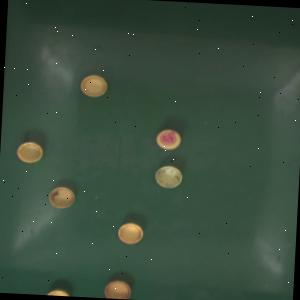others: (79, 74, 108, 97), (116, 222, 144, 245), (15, 140, 44, 162), (154, 166, 182, 188), (154, 128, 182, 150), (47, 186, 75, 208), (104, 279, 131, 299), (44, 289, 71, 296)
